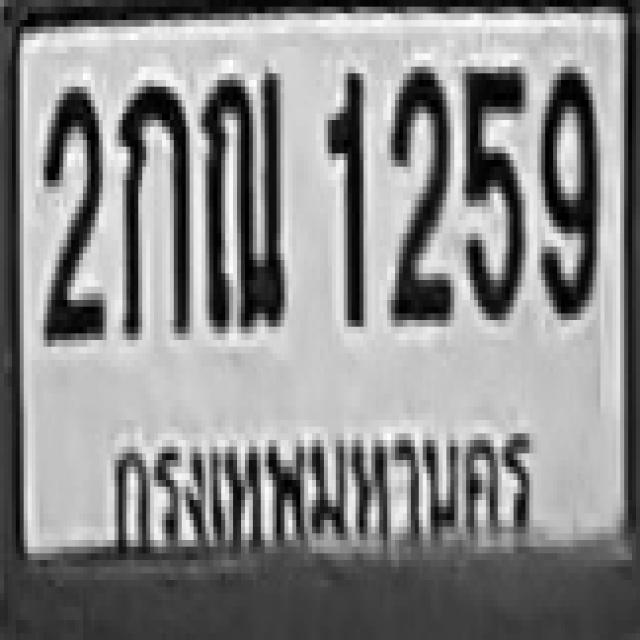1: (327, 72, 363, 326)
10GorGai: (114, 85, 192, 339)
2: (41, 86, 103, 341), (388, 68, 450, 321)
28NorNen: (199, 69, 287, 334)
5: (464, 69, 524, 323)
9: (538, 66, 598, 320)
Bangkok: (92, 407, 544, 570)
